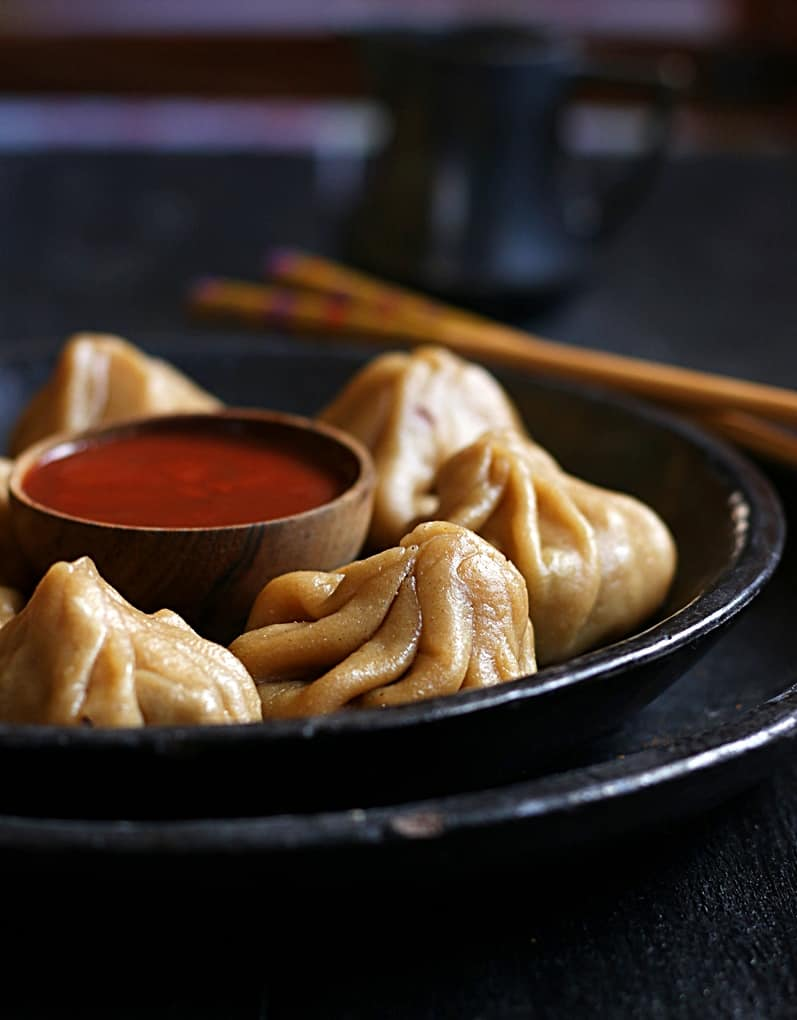momo: (420, 438, 670, 665), (250, 515, 520, 717), (8, 548, 255, 768), (325, 345, 535, 535), (17, 310, 222, 435)
